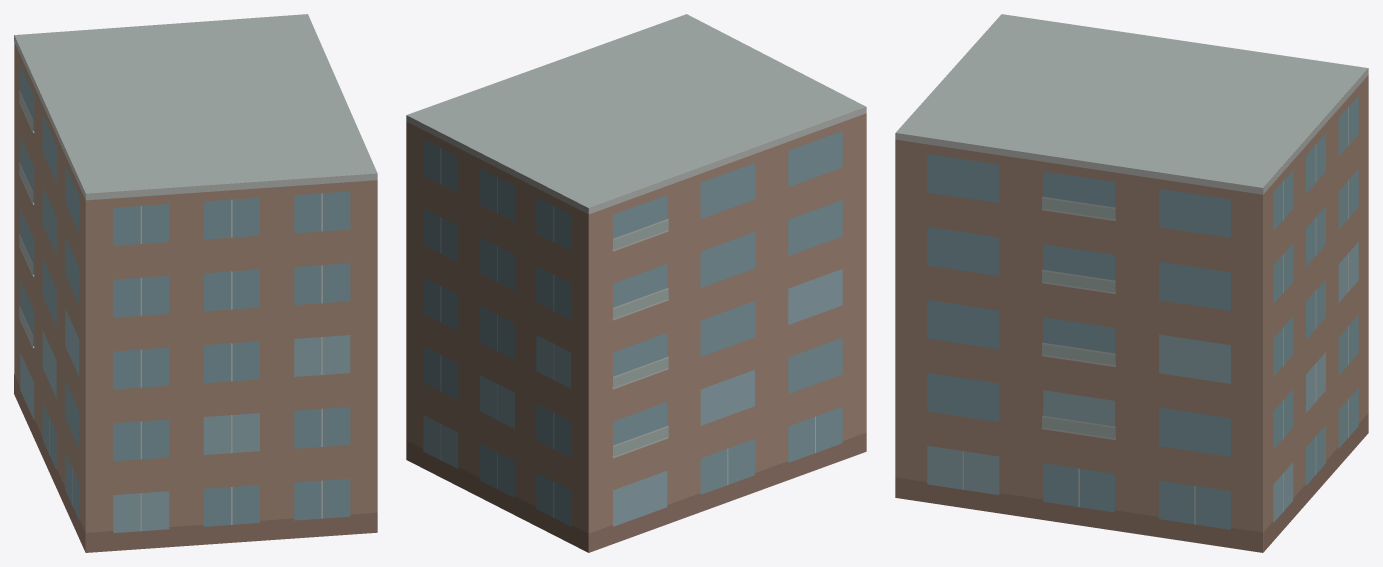
Rendered from survey-upis-32963699.glb.
3 renders of one model, left to right at view 1: azimuth 30°, elevation 25°; view 2: azimuth 150°, elevation 25°; view 3: azimuth 270°, elevation 25°, orthographic. The views are drawn at different scales.
Parts seen in each view (by area): view 1: survey-upis-32963699.tmp; view 2: survey-upis-32963699.tmp; view 3: survey-upis-32963699.tmp.
Part boxes in pixels (x1,y1,x2,y2): survey-upis-32963699.tmp: [14, 14, 377, 552]; survey-upis-32963699.tmp: [406, 14, 866, 552]; survey-upis-32963699.tmp: [895, 14, 1368, 552].
Size of the model in its own units: 13.56 by 13.25 by 15.58.
